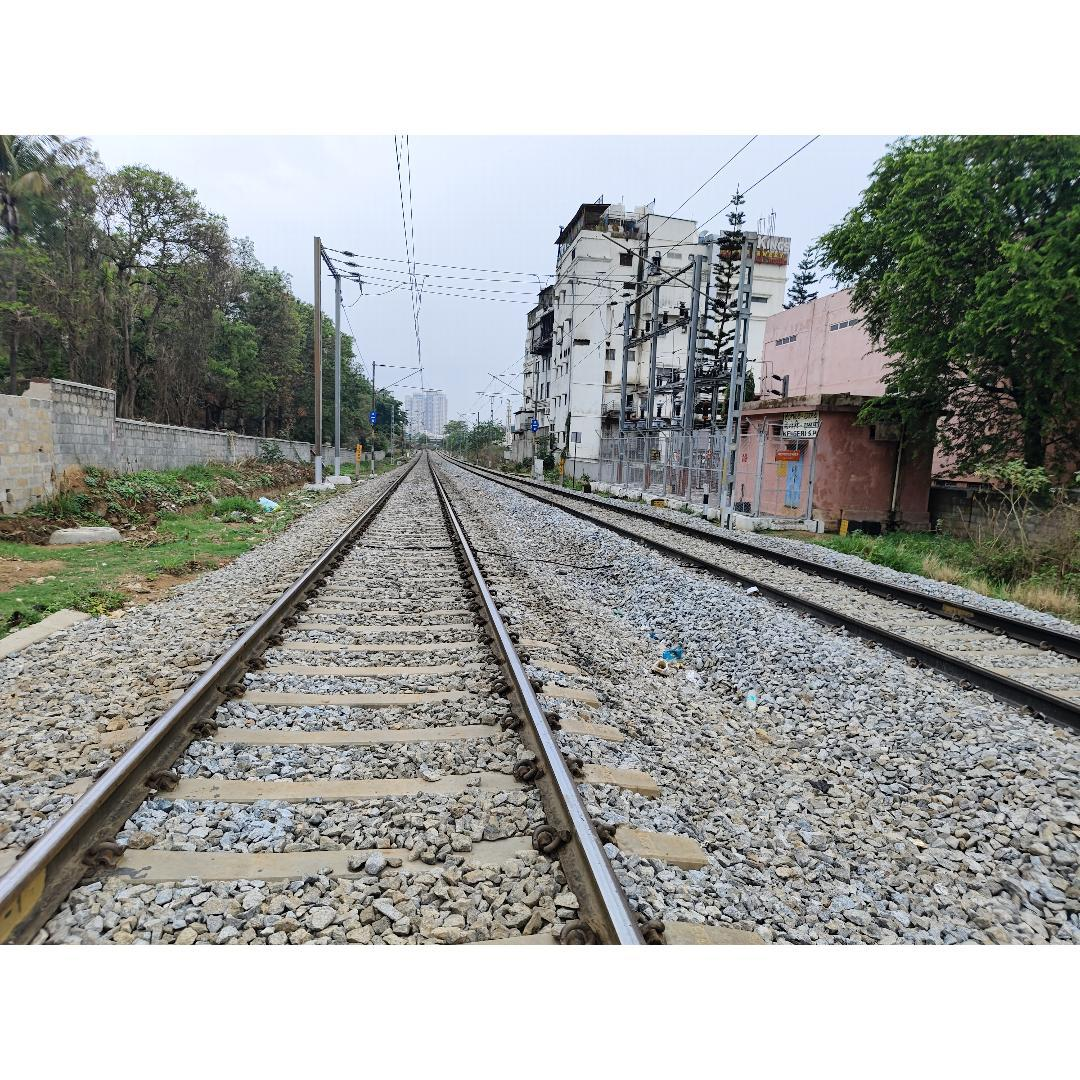track: (0, 448, 671, 945)
